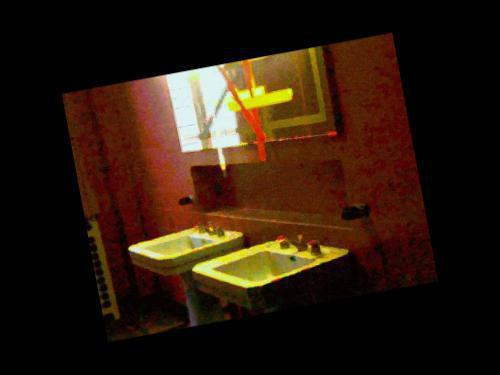Lavamanos: (193, 227, 362, 320), (124, 215, 259, 284)
